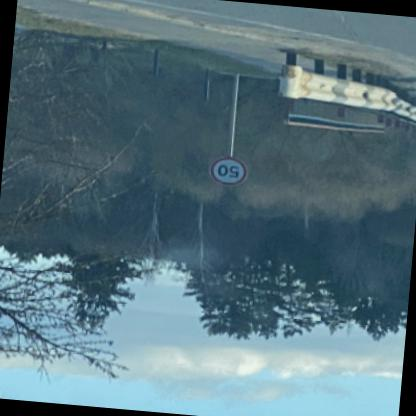speedlimit: (211, 158, 251, 190)
